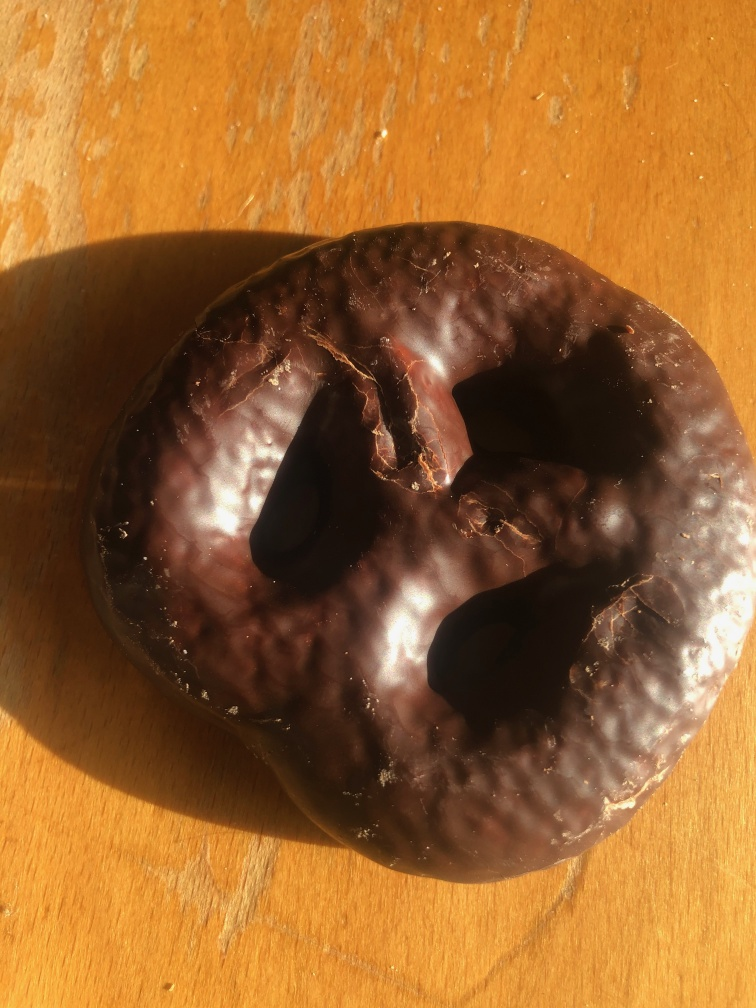bretzel: (69, 202, 756, 890)
